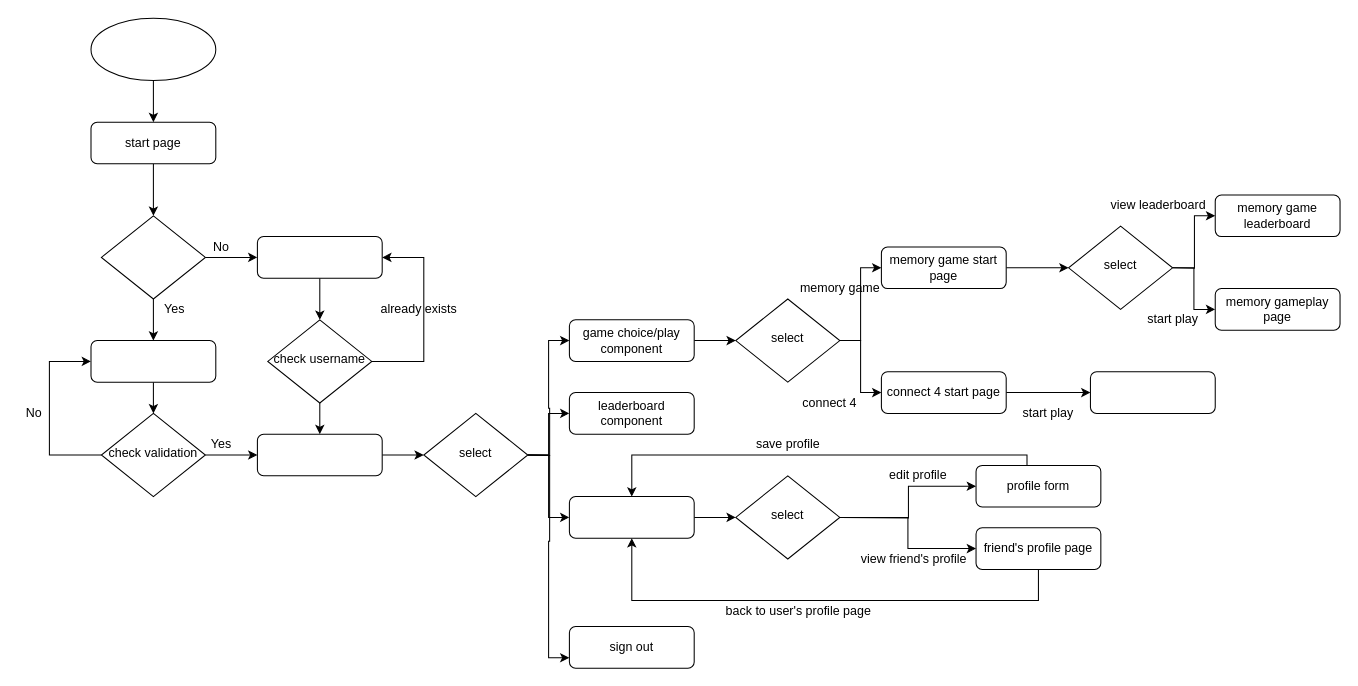
The diagram is 1358 pixels wide and 686 high, and some of its shapes have lost their labels. The box of each missing label's shape, as (x1, y1, x2, y2) in pixels:
connect4 gameplay page: (1089, 371, 1215, 413)
have an account?: (100, 215, 205, 299)
home page: (256, 433, 382, 476)
login page: (90, 340, 216, 382)
profile component: (568, 496, 694, 538)
signup page: (256, 236, 382, 278)
start: (90, 17, 216, 81)
